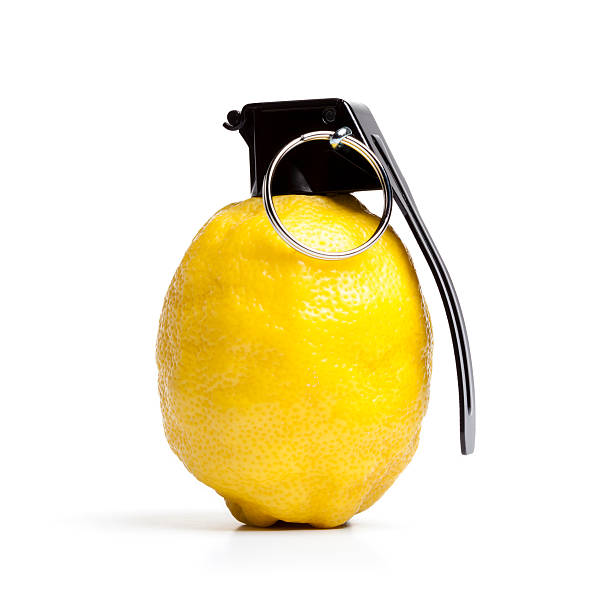e1: (148, 95, 480, 535)
